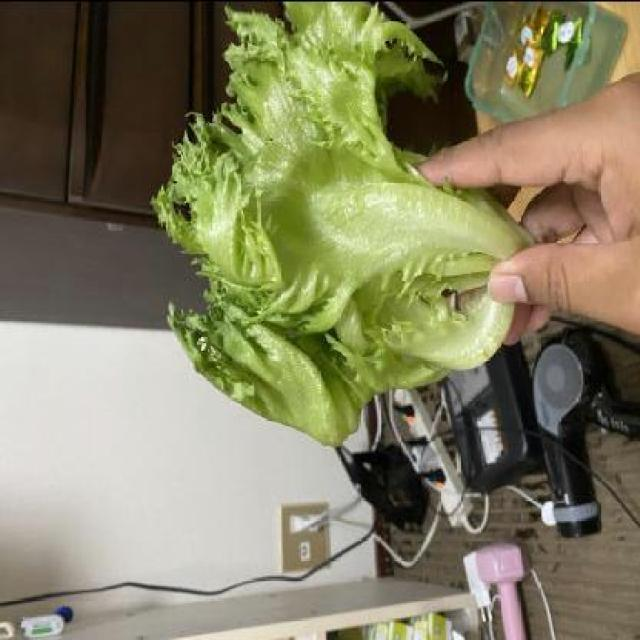Lettuce: (150, 0, 556, 440)
